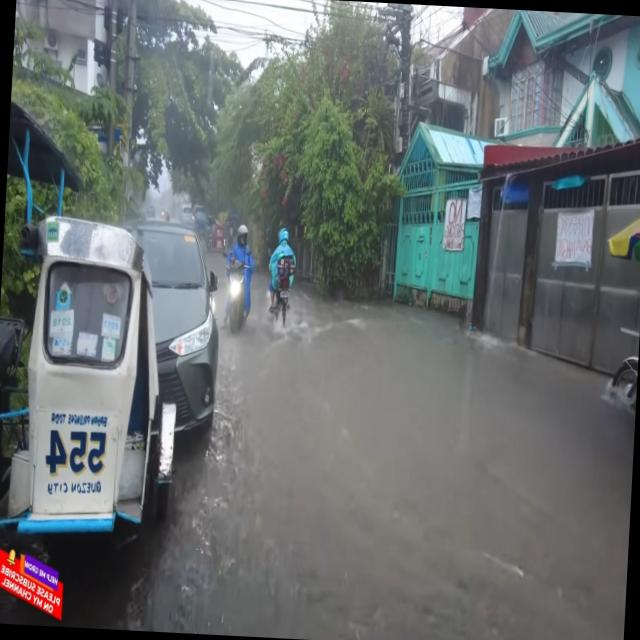half: (233, 222, 253, 254), (276, 224, 292, 248)
